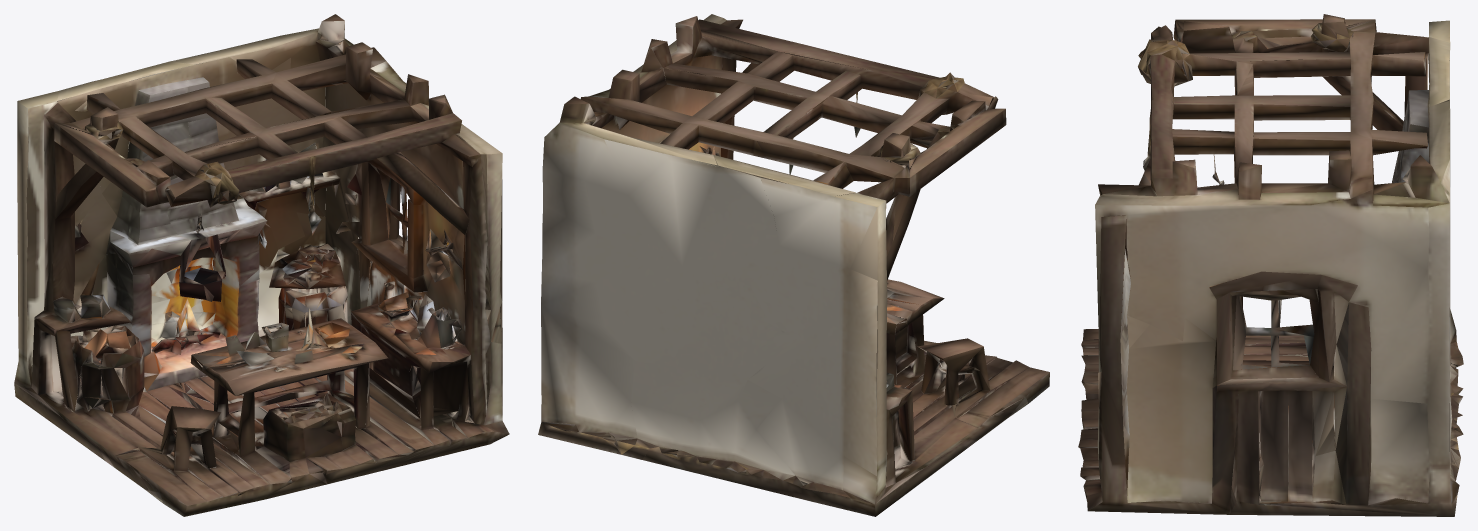
File: World0bfc70919a.glb
3 views of the same model, side by side, from view 1: azimuth 30°, elevation 25°; view 2: azimuth 150°, elevation 25°; view 3: azimuth 270°, elevation 25° (orthographic). The views are drawn at different scales.
Parts seen in each view (by area): view 1: World0bfc70919a; view 2: World0bfc70919a; view 3: World0bfc70919a.
Part boxes in pixels (<box>): World0bfc70919a: <box>14,14,509,516</box>; World0bfc70919a: <box>538,14,1049,516</box>; World0bfc70919a: <box>1078,14,1463,516</box>.
Bounding box in the file's own units: 3.6 × 3.32 × 3.36.
Materials: 1 (1 with a texture image).
